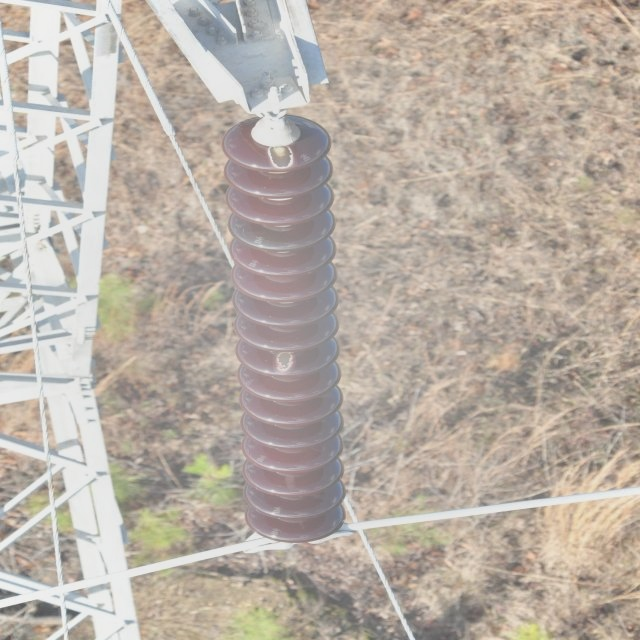insulator: (218, 116, 351, 540)
